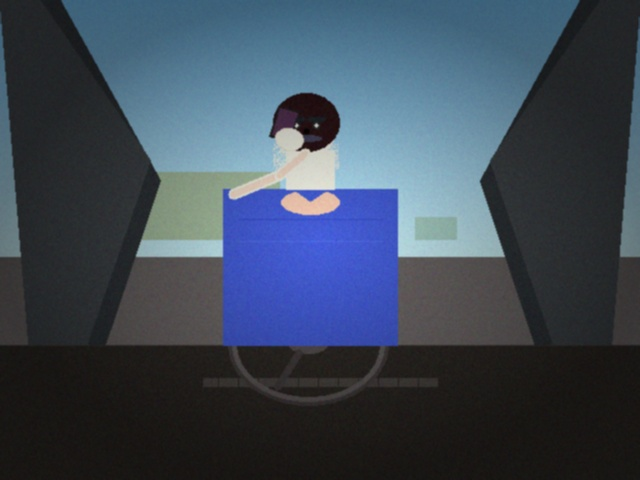phone_usage: (266, 99, 303, 148)
